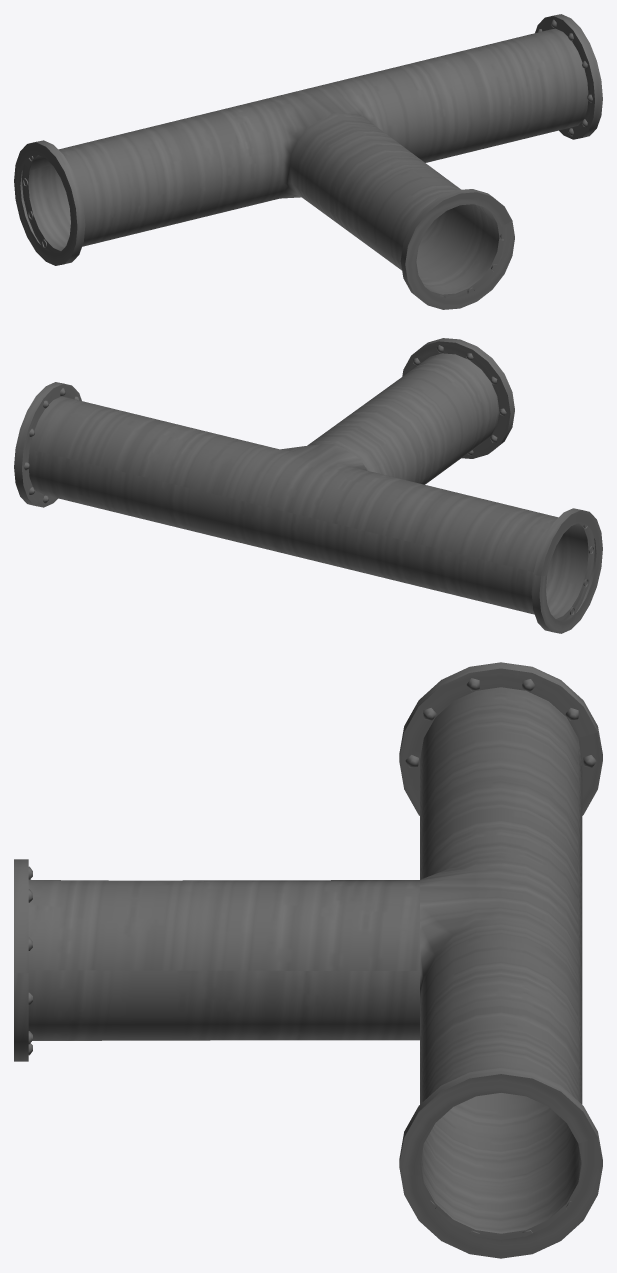
File: t-pipe.glb
3 renders of one model, top to bottom at view 1: azimuth 30°, elevation 25°; view 2: azimuth 150°, elevation 25°; view 3: azimuth 270°, elevation 25°, orthographic. The views are drawn at different scales.
Visible parts, largest first — view 1: T_Pipe; view 2: T_Pipe; view 3: T_Pipe.
Boxes of the visible parts, x1=… form: T_Pipe: x1=14, y1=14, x2=602, y2=309; T_Pipe: x1=14, y1=338, x2=602, y2=633; T_Pipe: x1=14, y1=662, x2=602, y2=1258.
Size of the model in its own units: 3 by 0.6273 by 1.81.
1 material, 1 textured.
